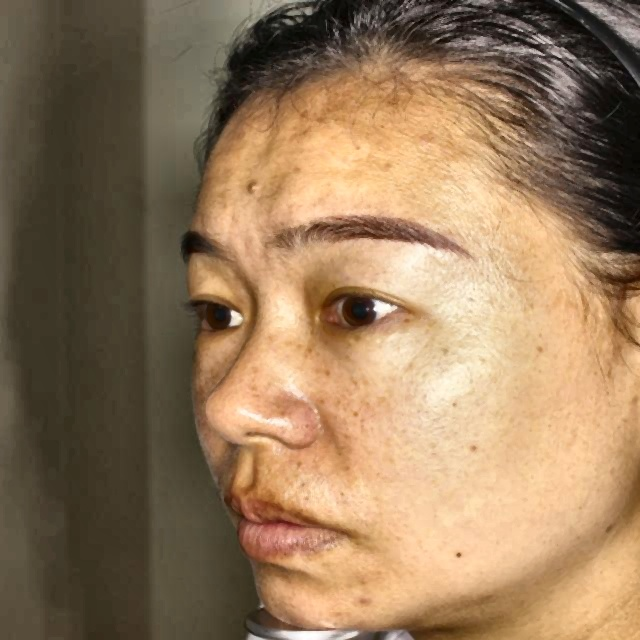comedone: (352, 590, 380, 610)
